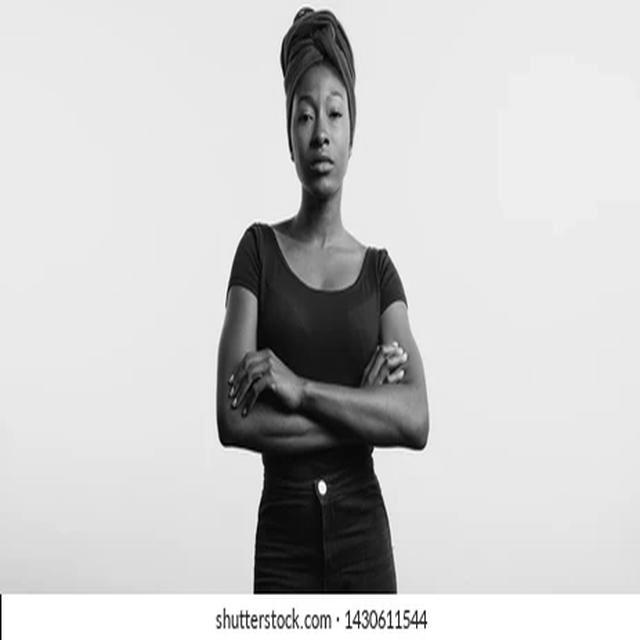Neutral: (291, 69, 350, 198)
